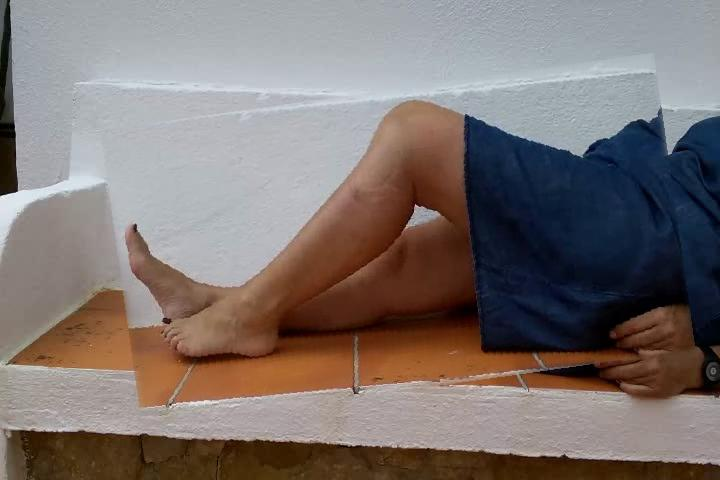lowerbody: (110, 72, 687, 410)
